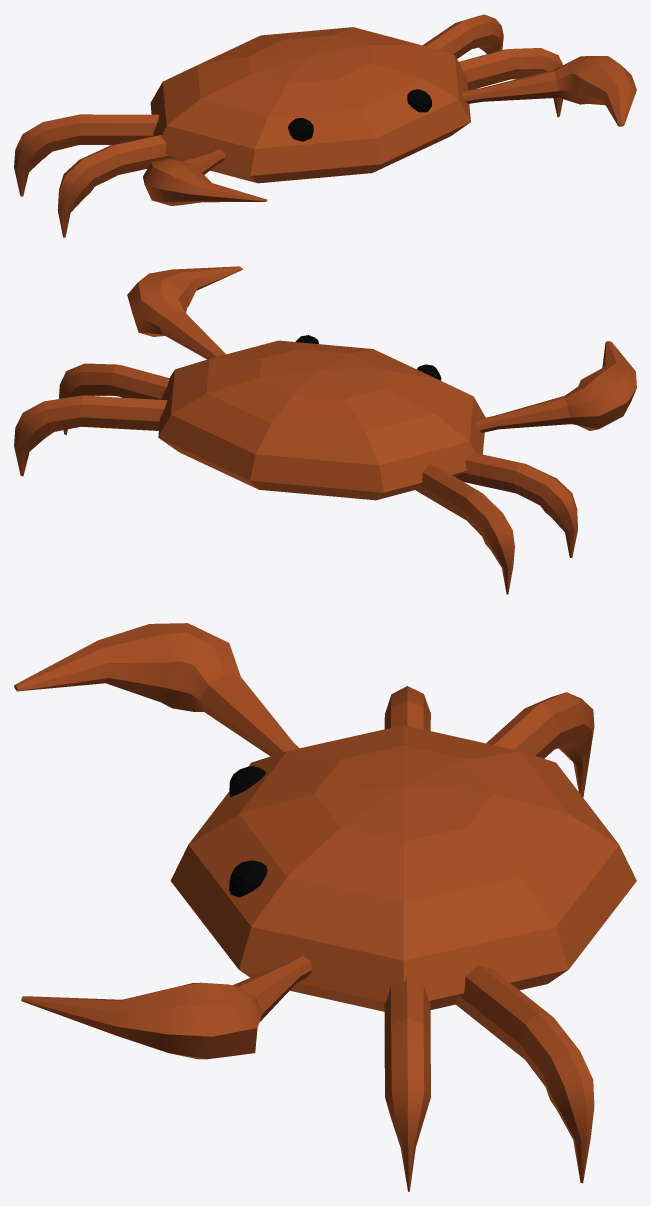
Rendered from Crab.fbx.
The picture shows the model from 3 angles, top to bottom: view 1: azimuth 30°, elevation 25°; view 2: azimuth 150°, elevation 25°; view 3: azimuth 270°, elevation 25°; orthographic projection. The views are drawn at different scales.
Visible parts, largest first — view 1: pSphere4; view 2: pSphere4; view 3: pSphere4.
Boxes of the visible parts, x1=… form: pSphere4: x1=14, y1=14, x2=636, y2=237; pSphere4: x1=14, y1=266, x2=636, y2=594; pSphere4: x1=14, y1=623, x2=636, y2=1191.
Bounding box in the file's own units: 0.2789 × 0.065 × 0.1794.
